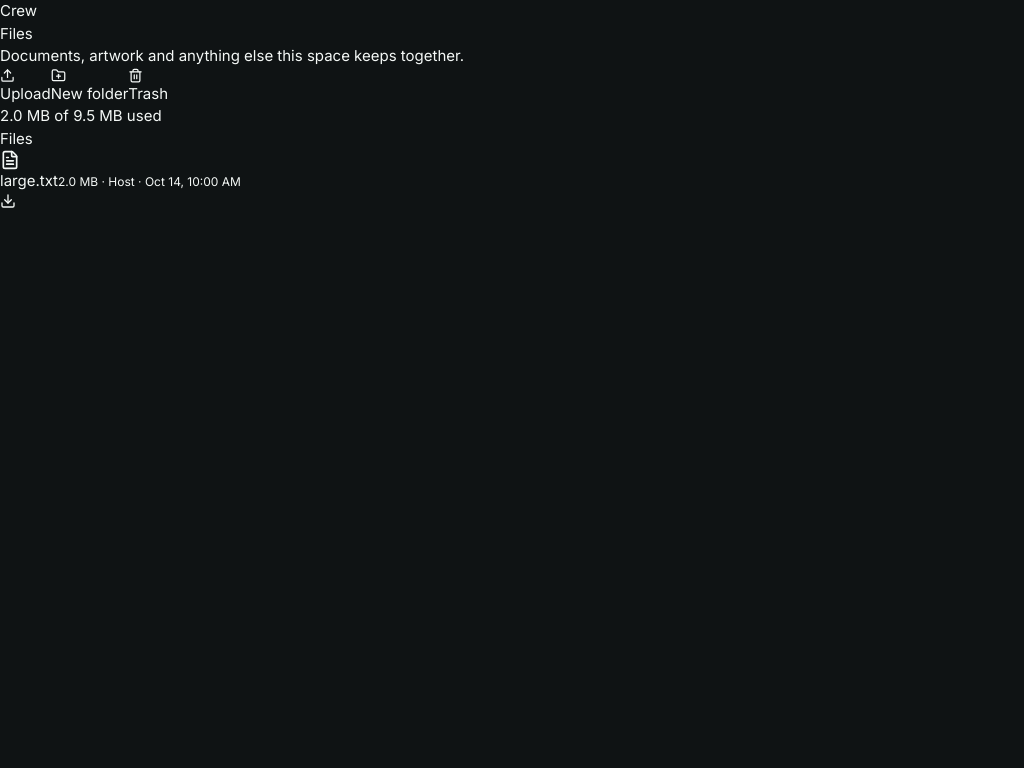
it: offers editing only for small text files: large.txt
Click the button "large.txt".
click(29, 181)  # box 0,170 -> 58,192
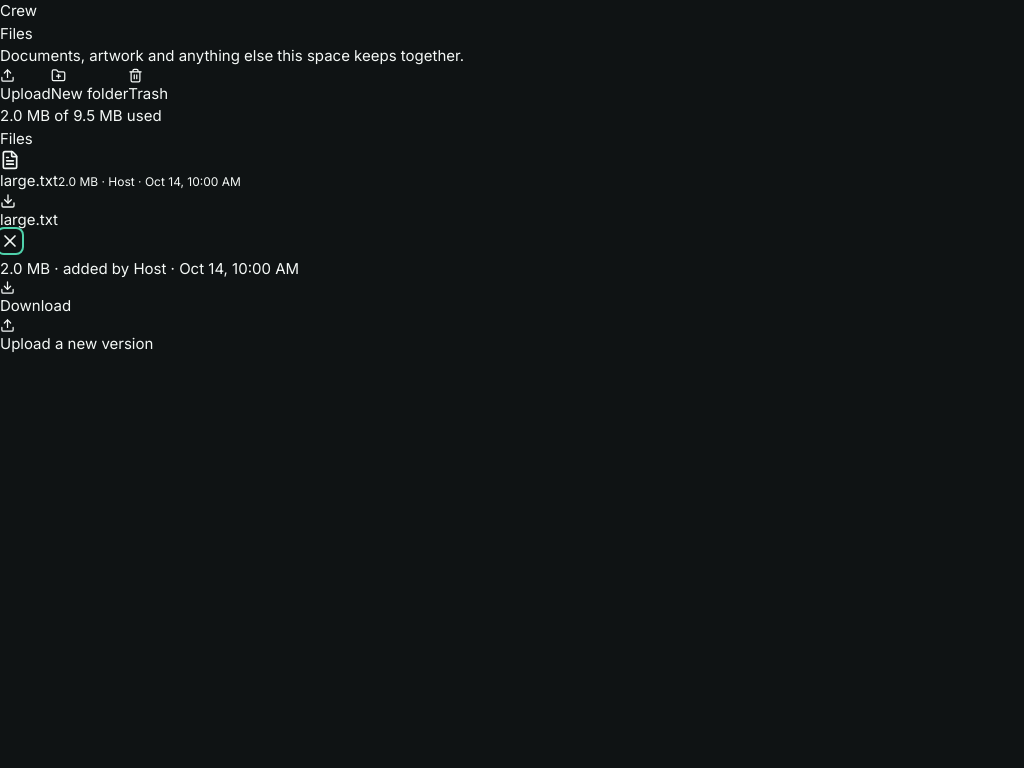
Expected: the dialog "large.txt" is shown, 0,210 -> 299,352
